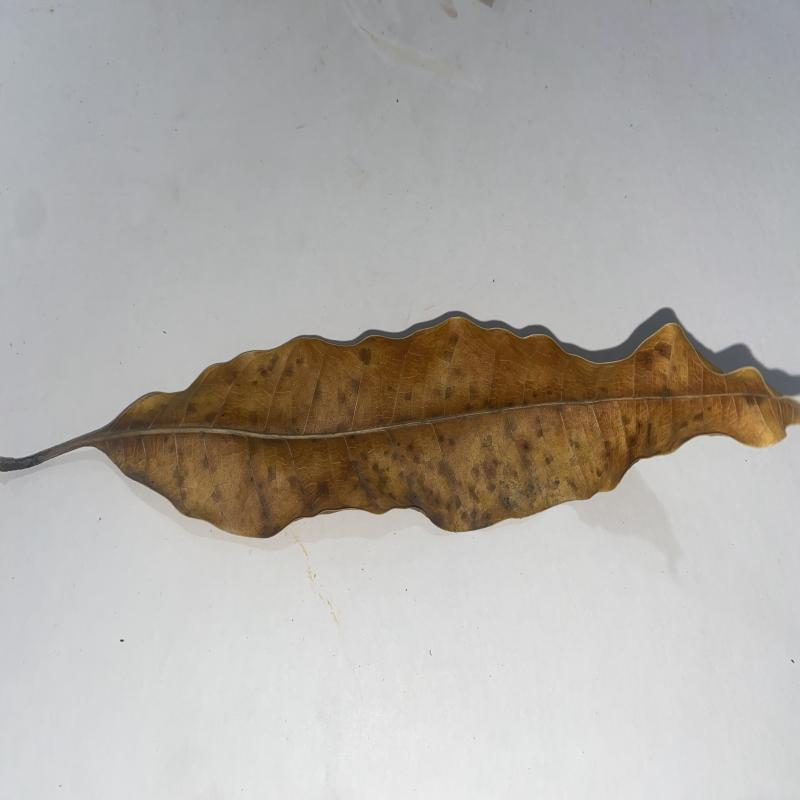treeleaves: (0, 310, 800, 543)
